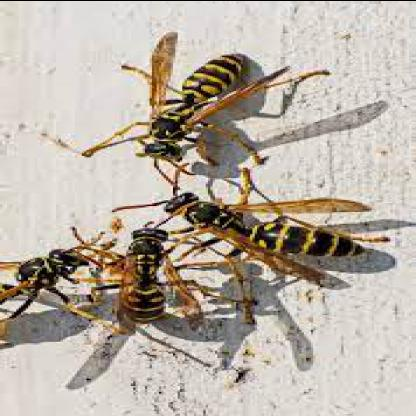other: (84, 22, 313, 170), (91, 226, 203, 334)
